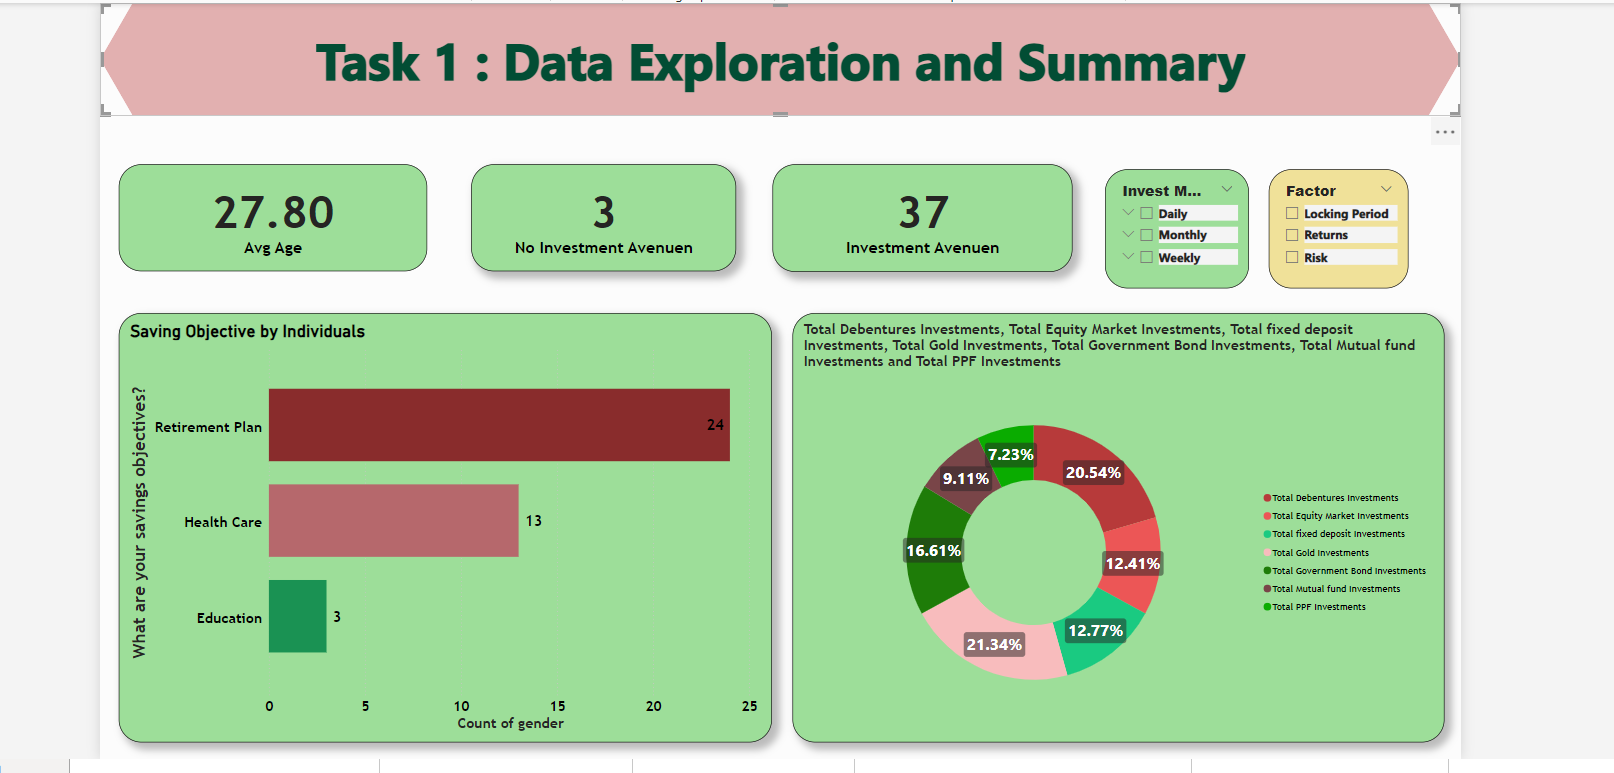

Layout of this report page (visuals, bound fields, positions):
{"tool":"powerbi","page":{"name":"Task 1: Data Exploration and Summary","canvas":[1800,1000],"ordinal":0},"visuals":[{"type":"shape","box":[0,0,1800.6,148.8],"z":0},{"type":"card","fields":{"Values":["Data_set 2.Avg Age"]},"box":[24.7,213.9,408,141.5],"z":1000},{"type":"clusteredBarChart","title":"Saving Objective by Individuals","fields":{"Category":["Data_set 2.What are your savings objectives?"],"Y":["CountNonNull(Data_set 2.gender)"]},"box":[25.3,410.7,864.2,568.3],"z":2000},{"type":"card","fields":{"Values":["Data_set 2.No Investment Avenuen"]},"box":[491.9,213.9,350.4,141.5],"z":3000},{"type":"card","fields":{"Values":["Data_set 2.Investment Avenuen"]},"box":[889.5,214.1,397.1,142.1],"z":4000},{"type":"donutChart","fields":{"Y":["Data_set 2.Total debentures","Data_set 2.Total Equity Market","Data_set 2.Total fixed deposit","Data_set 2.Total Gold","Data_set 2.Total Government Bond","Data_set 2.Total Mutual fund","Data_set 2.Total PPF"]},"box":[916.7,410.7,862.2,568.3],"z":5000},{"type":"slicer","fields":{"Values":["Data_set 2.Invest_Monitor","Data_set 2.Factor"]},"box":[1329.4,219.9,190.7,157.7],"z":6000},{"type":"slicer","fields":{"Values":["Data_set 2.Factor"]},"box":[1545.4,219.9,184.9,157.7],"z":7000}]}

Visuals, with their boxes in screenshot pixels (x1, y1, x2, y2):
shape: rect(92, 0, 1466, 109)
card - Data_set 2.Avg Age: rect(111, 159, 422, 267)
"Saving Objective by Individuals" clusteredBarChart: rect(112, 309, 771, 742)
card - Data_set 2.No Investment Avenuen: rect(468, 159, 735, 267)
card - Data_set 2.Investment Avenuen: rect(771, 159, 1074, 267)
donutChart - Data_set 2.Total debentures x Data_set 2.Total Equity Market: rect(792, 309, 1449, 742)
slicer - Data_set 2.Invest_Monitor x Data_set 2.Factor: rect(1106, 164, 1252, 284)
slicer - Data_set 2.Factor: rect(1271, 164, 1412, 284)
